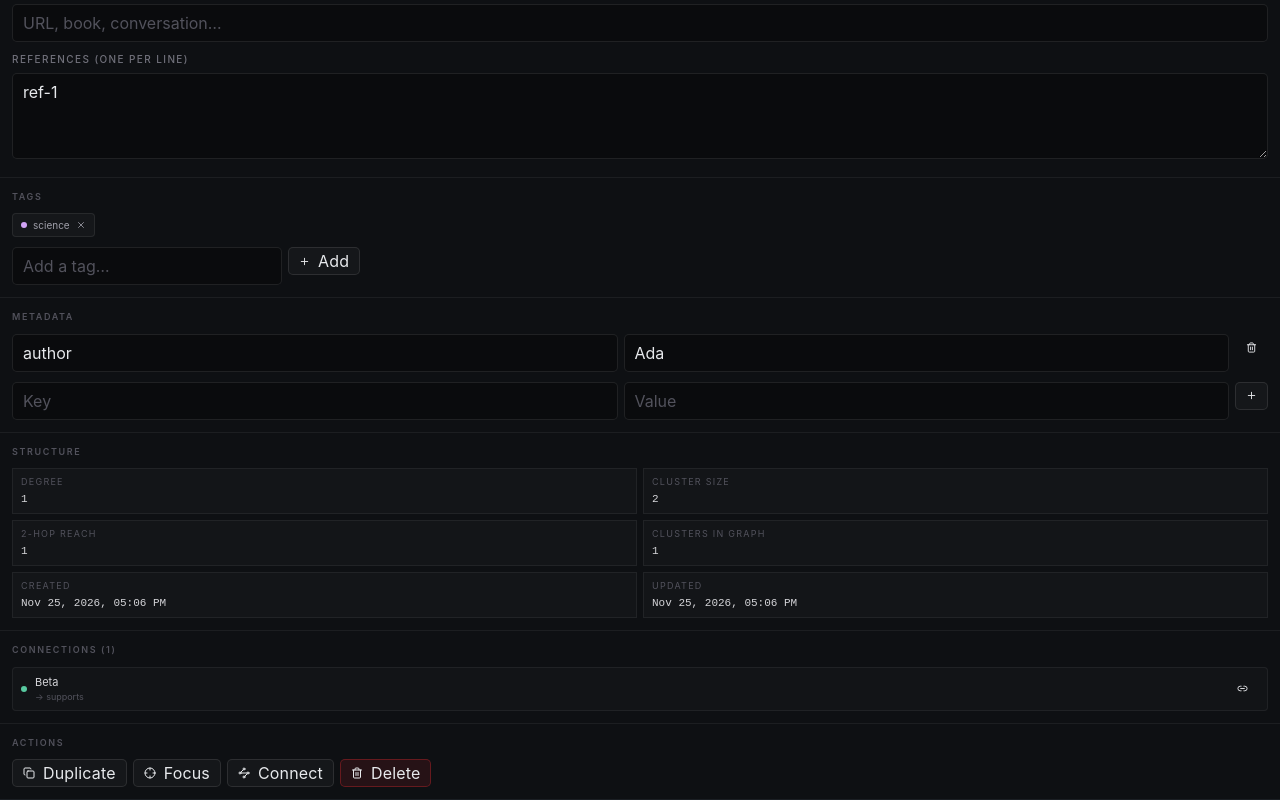
Test: Inspector › shows connections and switches to relationship editing
(page scrolled)
Check: the text "Connections (1)" is shown, box [12, 644, 116, 655]
Check: the text "Beta" is shown, box [35, 674, 58, 688]
Click the button named "Edit relationship". click: x=1242, y=688
box: [1226, 674, 1259, 702]
(page scrolled)
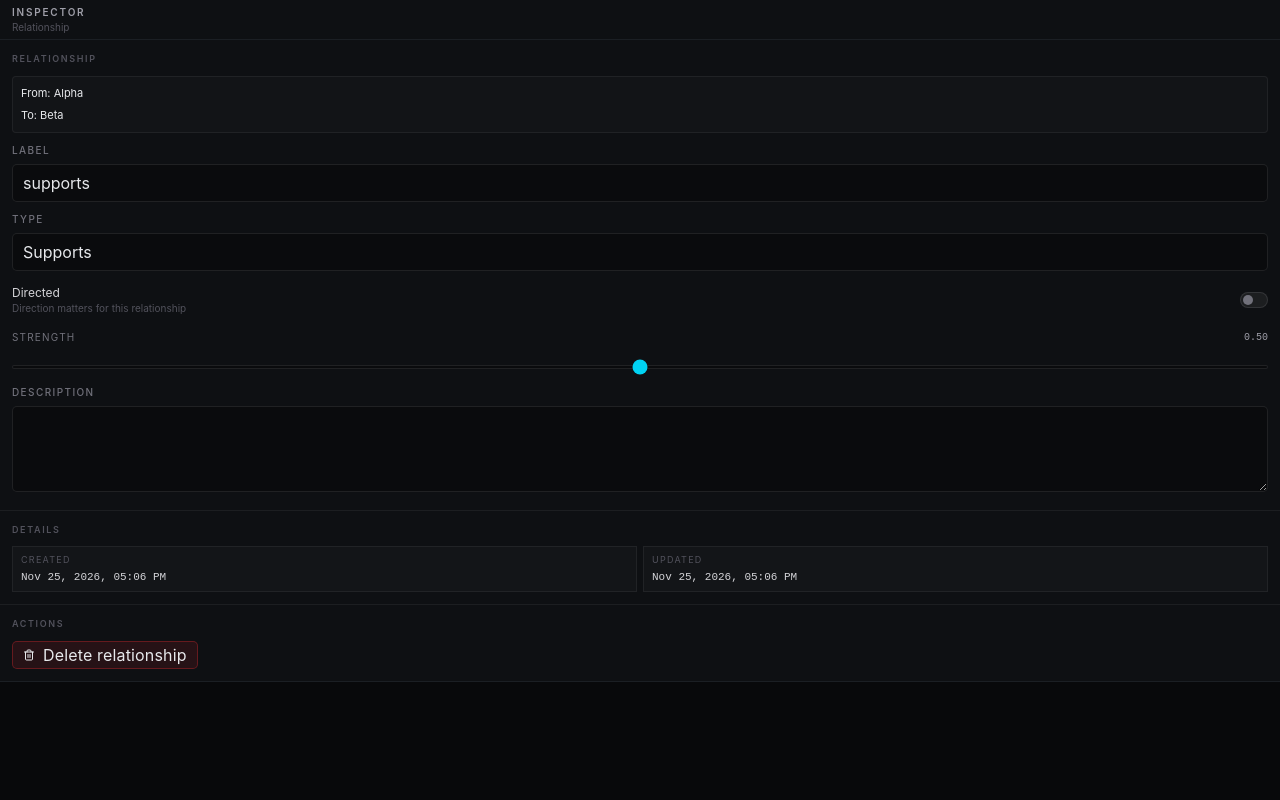
Check: the text "Relationship" below "Inspector" is shown, box [12, 20, 70, 32]
Check: the field labelled "Label" holds "supports", box [12, 164, 1268, 202]
Check: the switch named "Directed" is shown, box [1240, 292, 1268, 308]
